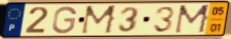2: (24, 6, 51, 35)
3: (117, 6, 141, 34), (153, 6, 176, 33)
G: (51, 6, 79, 35)
M: (80, 4, 120, 36), (173, 3, 213, 35)
